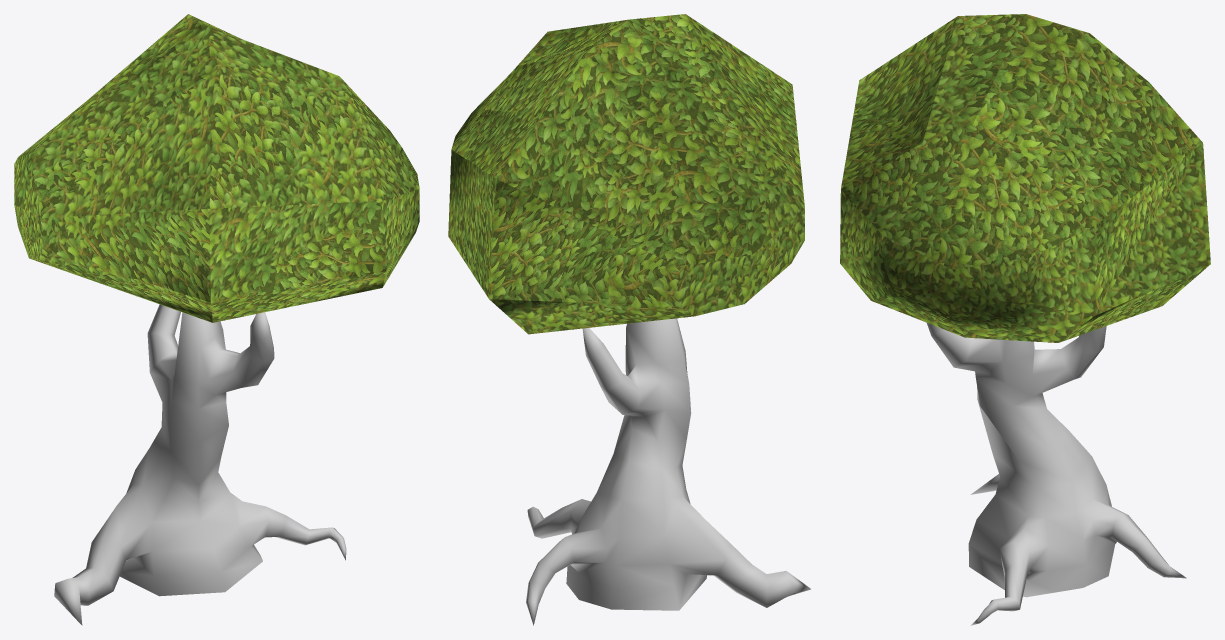
File: main tree collider.FBX
3 renders of one model, left to right at view 1: azimuth 30°, elevation 25°; view 2: azimuth 150°, elevation 25°; view 3: azimuth 270°, elevation 25°, orthographic. The views are drawn at different scales.
Parts seen in each view (by area): view 1: forest main collider; view 2: forest main collider; view 3: forest main collider.
Boxes of the visible parts, x1,y1,x2,y2 form: forest main collider: (14,14,419,625); forest main collider: (448,14,810,625); forest main collider: (840,14,1210,625).
Bounding box in the file's own units: 8.66 × 13.13 × 7.89.
